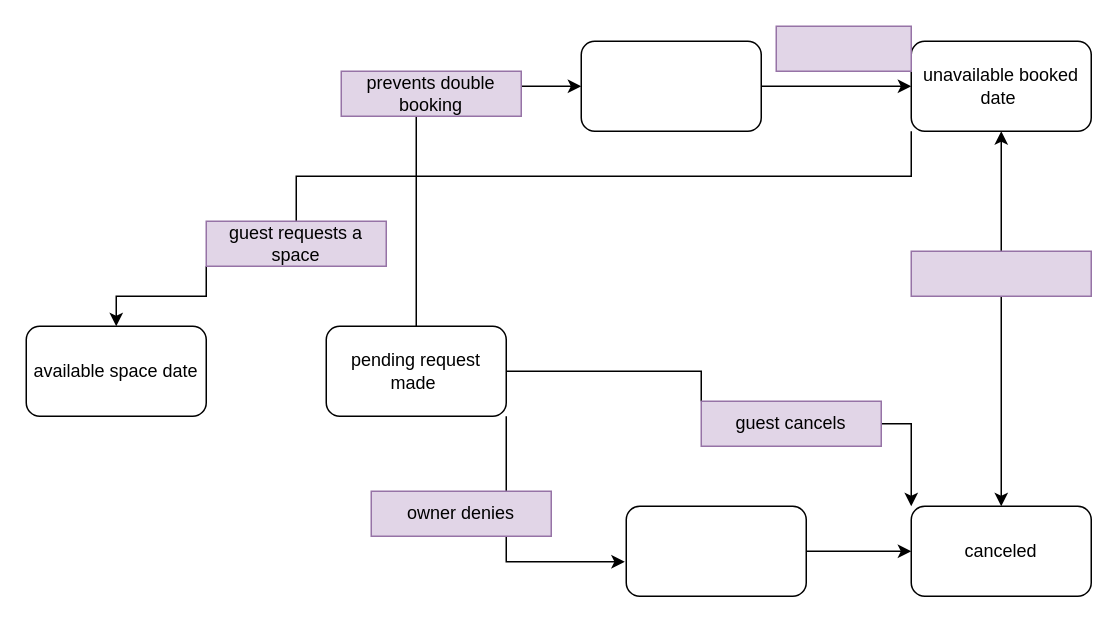
This 1118x623 diagram has some shape labels left out. The shapes that lost their labels are listed below. From the top down, each one's centre as x and y in pixels, then its label:
At point (843, 48): "date booked".
At point (670, 85): "comfurmed booking accepted".
At point (1000, 273): "if cancelled return back to available date".
At point (715, 550): "request declined".
